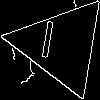I: (36, 20, 58, 68)
